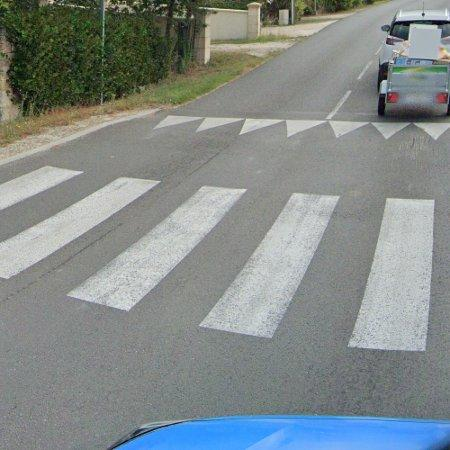crosswalks: (0, 162, 440, 355)
